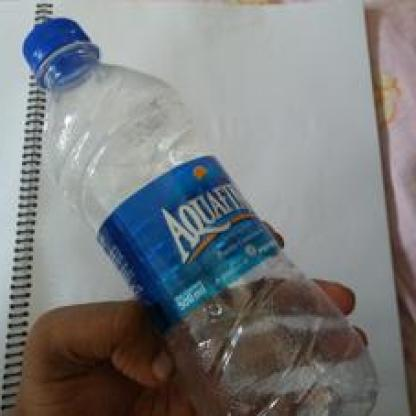bottle: (23, 20, 381, 410)
